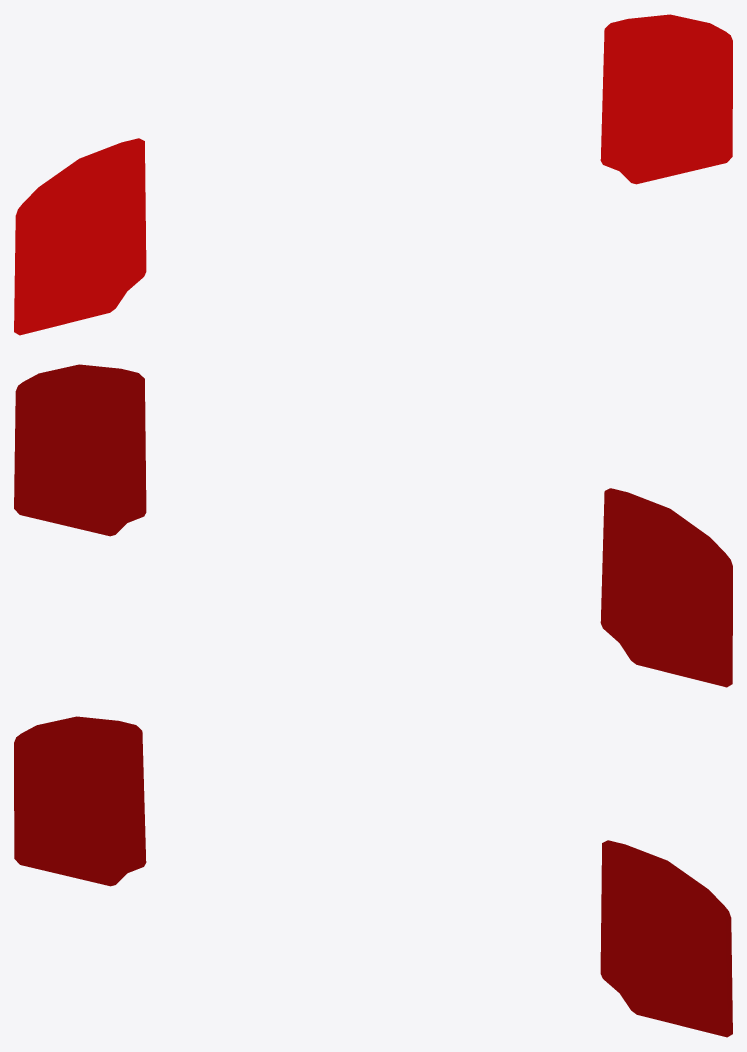
Rendered from Veyron_Chassis_Grill.fbx.
3 views of the same model, one above another, from view 1: azimuth 30°, elevation 25°; view 2: azimuth 150°, elevation 25°; view 3: azimuth 330°, elevation 25° (orthographic).
Visible parts, largest first — view 1: Veyron_Chassis_Grill; view 2: Veyron_Chassis_Grill; view 3: Veyron_Chassis_Grill.
Part boxes in pixels (box(x1,y1,x2,y2)): Veyron_Chassis_Grill: box(14, 14, 732, 335); Veyron_Chassis_Grill: box(14, 364, 732, 687); Veyron_Chassis_Grill: box(14, 716, 732, 1037).
Bounding box in the file's own units: 0.1449 × 9.4 × 41.66.
